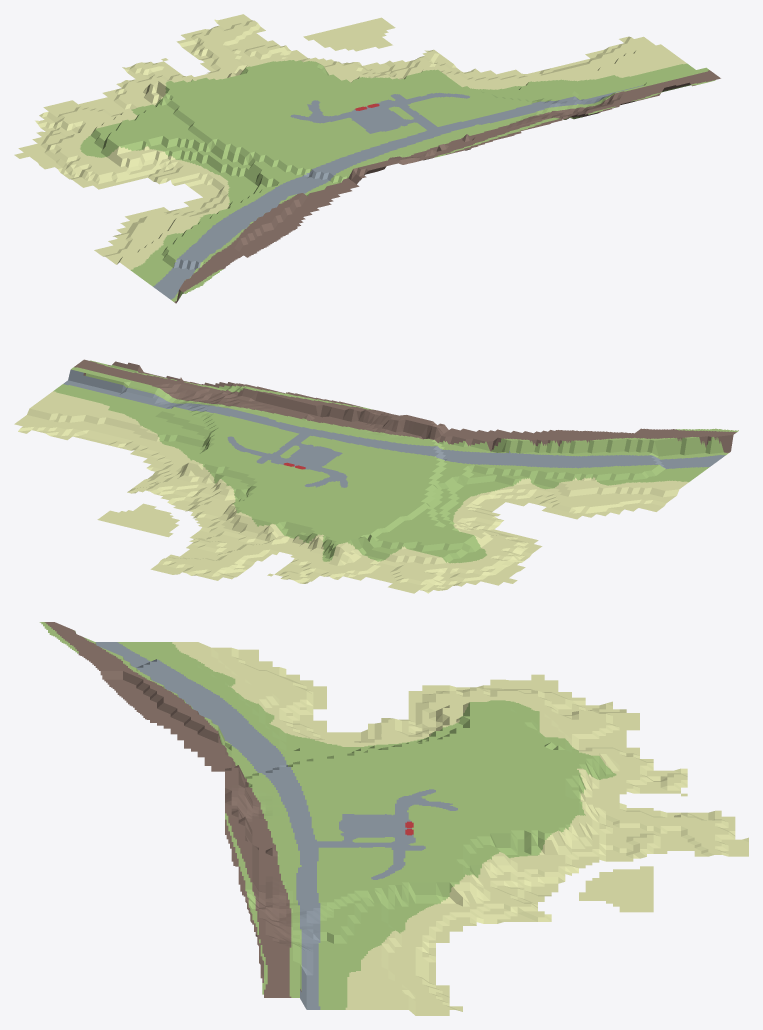
The model's file is HopkinsMapTerrain.glb.
3 renders of one model, top to bottom at view 1: azimuth 30°, elevation 25°; view 2: azimuth 150°, elevation 25°; view 3: azimuth 270°, elevation 25°, orthographic. The views are drawn at different scales.
Visible parts, largest first — view 1: Plane; view 2: Plane; view 3: Plane.
Boxes of the visible parts, x1,y1,x2,y2 form: Plane: (14, 14, 720, 303); Plane: (14, 359, 738, 593); Plane: (39, 622, 748, 1015).
Bounding box in the file's own units: 400 × 18.01 × 338.
1 material, 1 textured.
